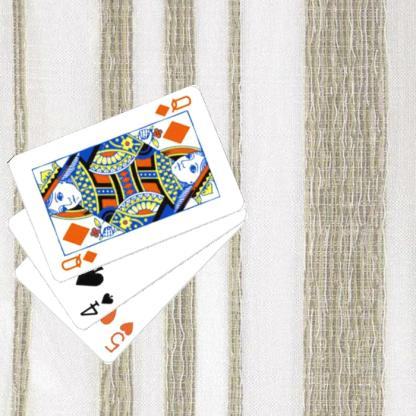4S: (76, 290, 114, 318)
5H: (101, 319, 135, 355)
QD: (152, 93, 193, 119), (58, 248, 98, 273)
